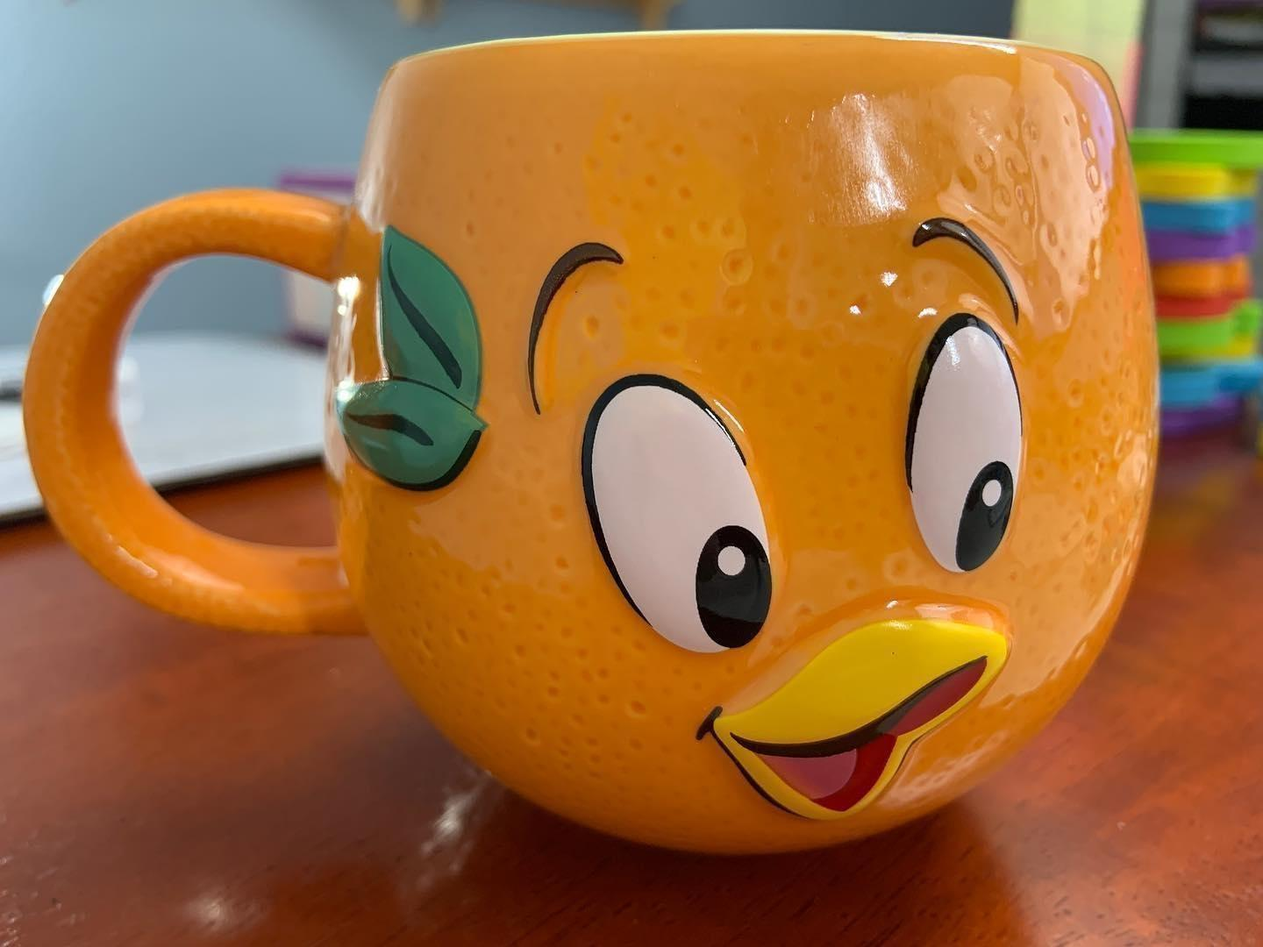cup-handle: (0, 16, 1185, 867)
